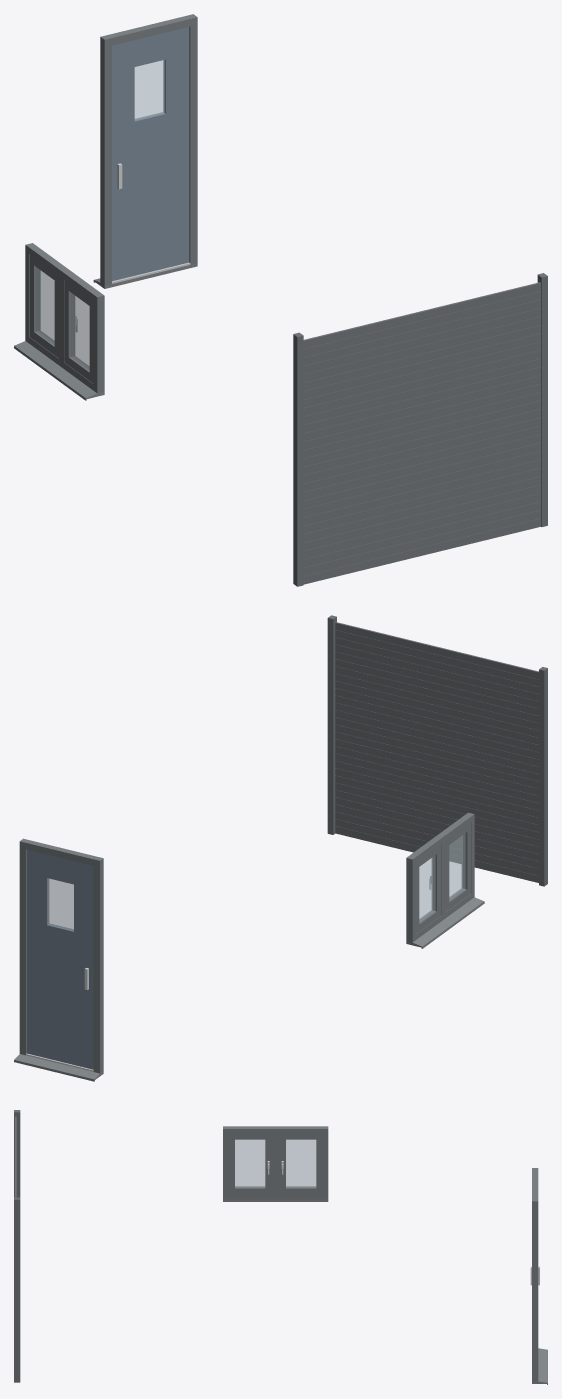
File: stage-6.glb
The picture shows the model from 3 angles, top to bottom: view 1: azimuth 30°, elevation 25°; view 2: azimuth 150°, elevation 25°; view 3: azimuth 270°, elevation 25°; orthographic projection. The views are drawn at different scales.
Parts seen in each view (by area): view 1: Geom3D (×5); view 2: Geom3D (×5); view 3: Geom3D (×4).
Part boxes in pixels (x1=…): Geom3D (×5): x1=14, y1=14, x2=547, y2=586; Geom3D (×5): x1=14, y1=615, x2=547, y2=1081; Geom3D (×4): x1=14, y1=1110, x2=547, y2=1384.
Size of the model in its own units: 3.09 by 2.3 by 6.04.
